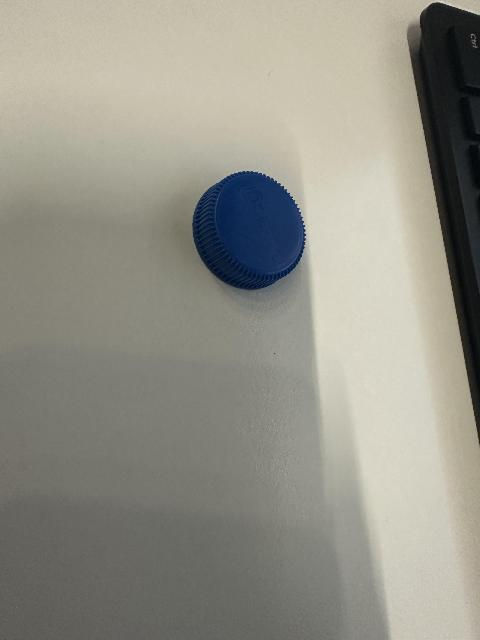Plastik: (190, 170, 308, 290)
